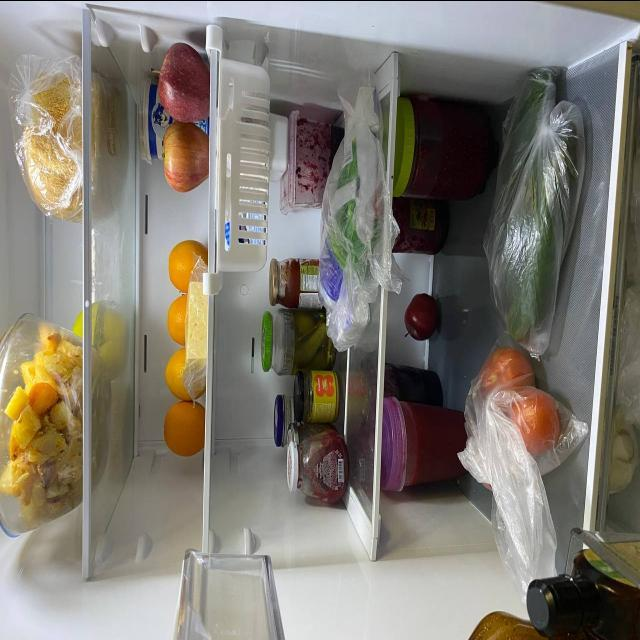Apple: (153, 41, 217, 127), (164, 114, 211, 194), (402, 292, 436, 346)
Orange: (162, 396, 205, 456), (167, 290, 208, 350), (168, 237, 209, 295), (164, 346, 205, 404)
Tomato: (509, 378, 558, 468), (478, 342, 531, 414)
